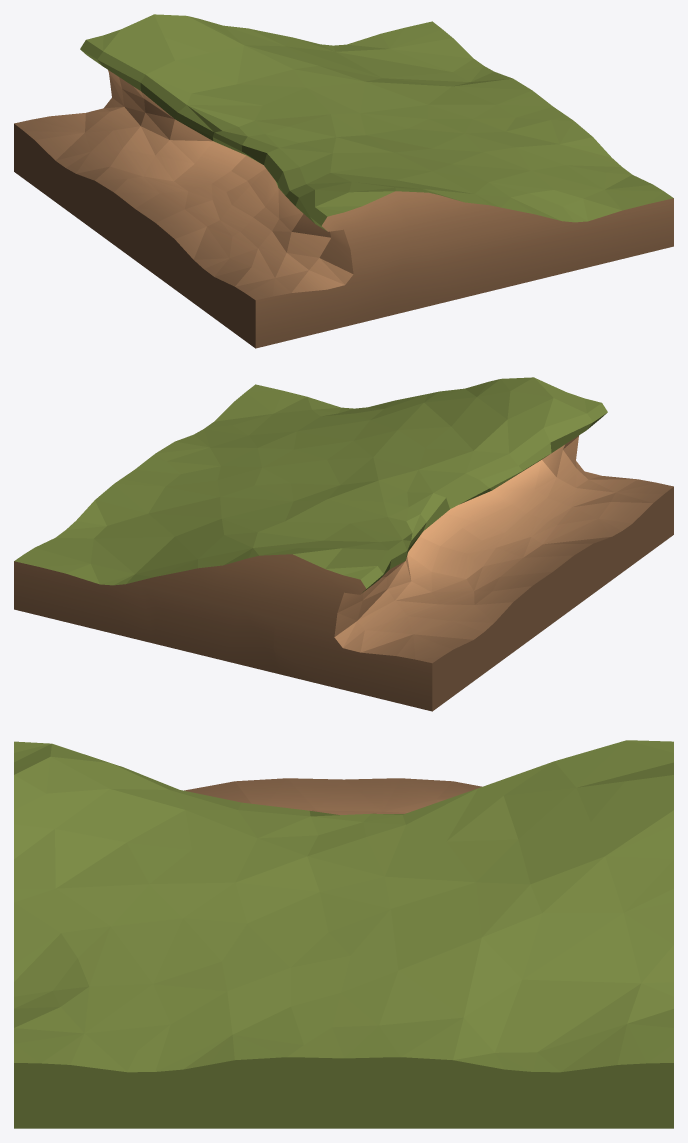
File: Terrian_Cliff_Hill_Straight-03.fbx
3 renders of one model, top to bottom at view 1: azimuth 30°, elevation 25°; view 2: azimuth 150°, elevation 25°; view 3: azimuth 270°, elevation 25°, orthographic. The views are drawn at different scales.
Visible parts, largest first — view 1: Terrian_Cliff_Hill_Straight-03; view 2: Terrian_Cliff_Hill_Straight-03; view 3: Terrian_Cliff_Hill_Straight-03.
Part boxes in pixels (<box>): Terrian_Cliff_Hill_Straight-03: <box>14,14,673,348</box>; Terrian_Cliff_Hill_Straight-03: <box>14,377,673,711</box>; Terrian_Cliff_Hill_Straight-03: <box>14,740,673,1128</box>.
Size of the model in its own units: 3600 by 1013 by 3600.
Materials: 1 (1 with a texture image).
